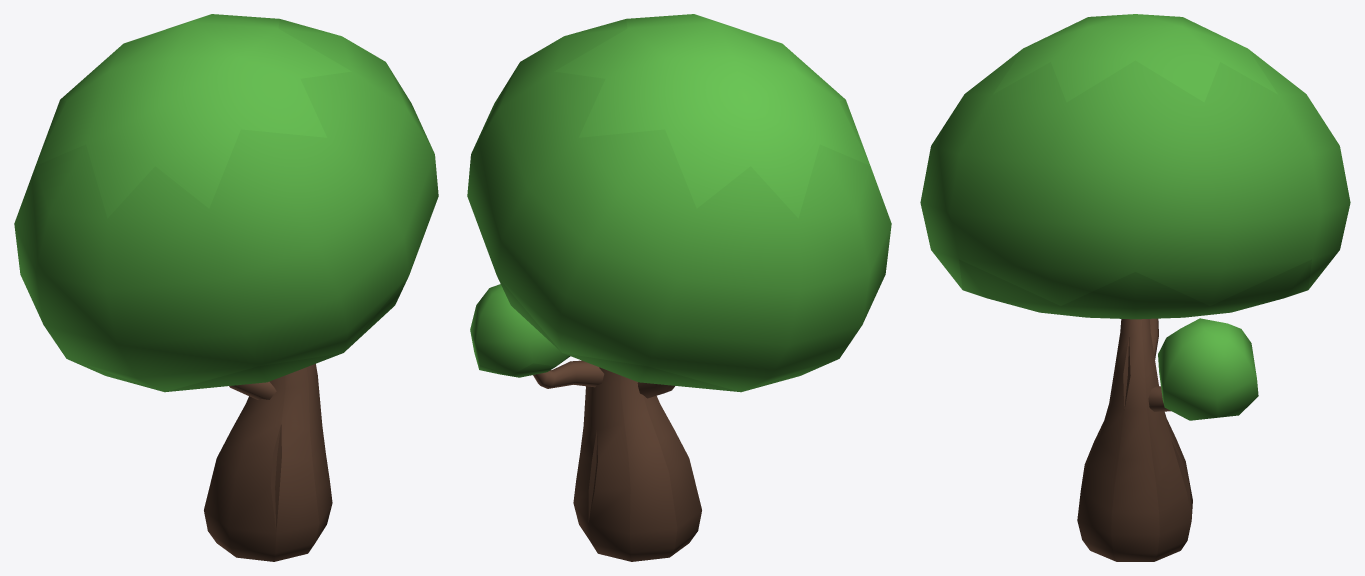
File: tree_broadleaf_1.glb
The picture shows the model from 3 angles, left to right: view 1: azimuth 30°, elevation 25°; view 2: azimuth 150°, elevation 25°; view 3: azimuth 270°, elevation 25°; orthographic projection. The views are drawn at different scales.
Parts seen in each view (by area): view 1: tree_broadleaf_1; view 2: tree_broadleaf_1; view 3: tree_broadleaf_1.
Part boxes in pixels (<box>): tree_broadleaf_1: <box>14,14,438,561</box>; tree_broadleaf_1: <box>467,14,891,561</box>; tree_broadleaf_1: <box>920,14,1350,561</box>.
Size of the model in its own units: 5.35 by 7 by 5.47.
